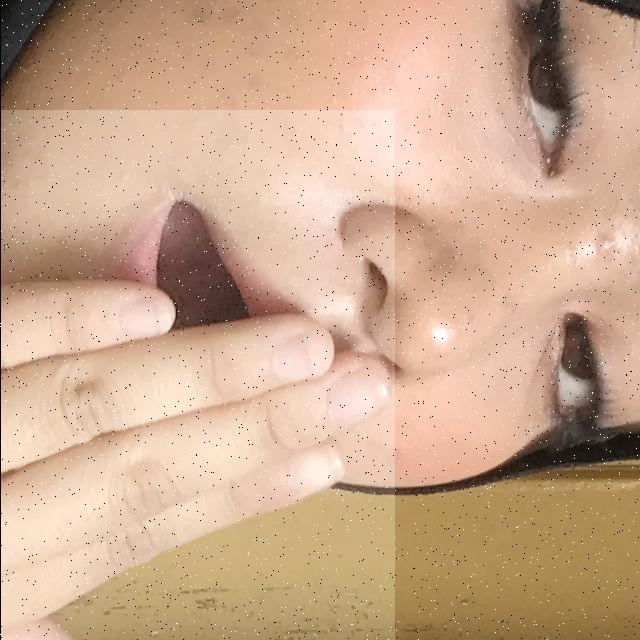ngantuk: (0, 110, 394, 640)
